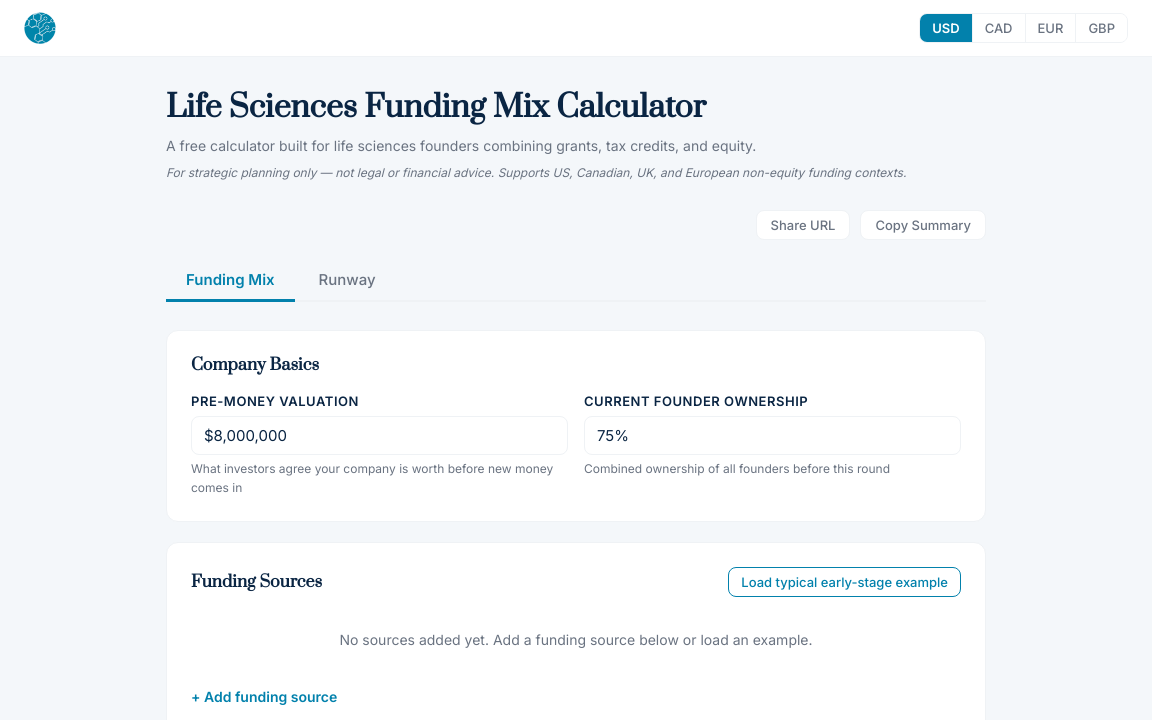
Test: Copy Summary button — copy feedback › shows "Copied!" after a successful clipboard write
Click the button "Copy Summary". click: (923, 225)
box: [860,210,986,240]
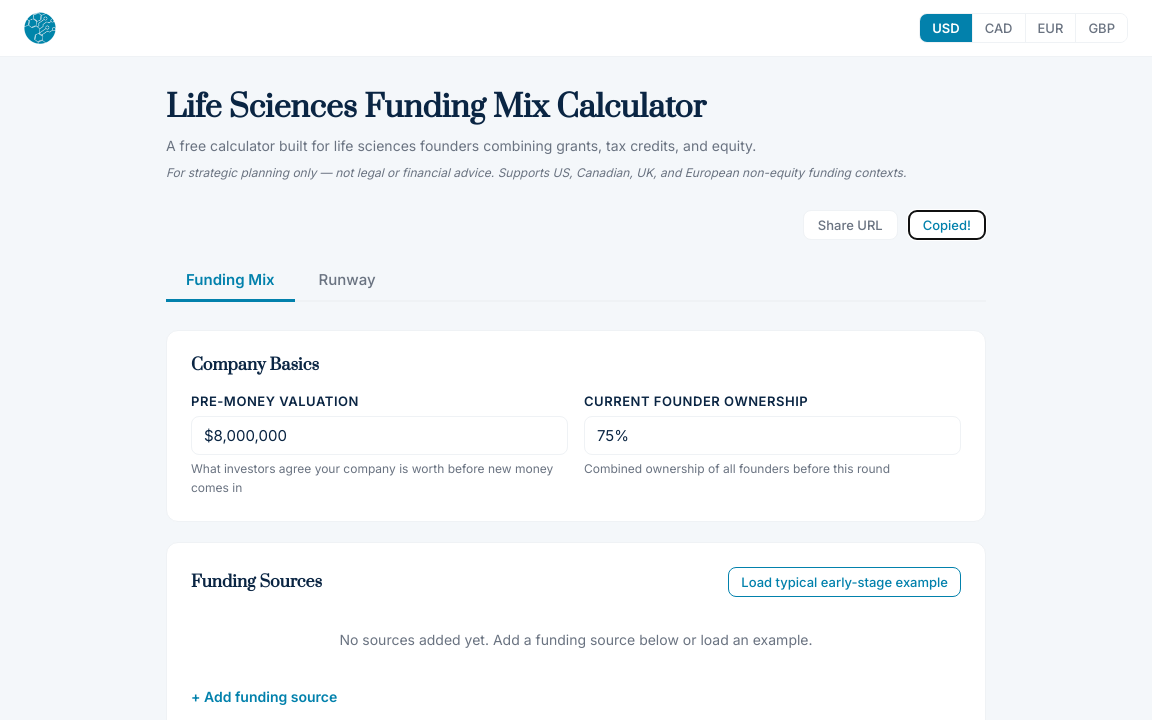
Check: the button "Copied!" is shown, box [908,210,986,240]
